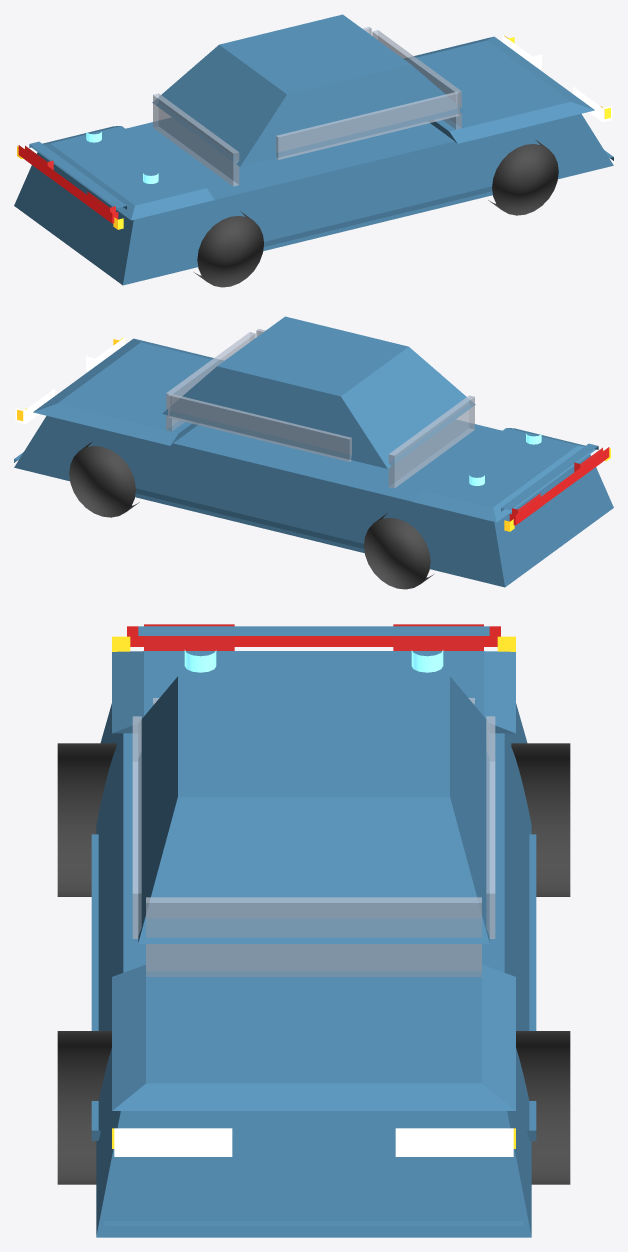
3 renders of one model, top to bottom at view 1: azimuth 30°, elevation 25°; view 2: azimuth 150°, elevation 25°; view 3: azimuth 270°, elevation 25°, orthographic. The views are drawn at different scales.
Parts seen in each view (by area): view 1: body, cabin, hood, trunklid, side_window_R, wheel_RR, wheel_FR, rear_window, windshield, side_skirt_R, brakelight_bar, spoiler (+1 smaller); view 2: body, cabin, hood, trunklid, side_window_L, wheel_RL, wheel_FL, rear_window, windshield, side_skirt_L, brakelight_bar, spoiler (+1 smaller); view 3: cabin, body, hood, windshield, trunklid, wheel_FL, wheel_FR, wheel_RL, wheel_RR, spoiler, headlight_L, headlight_R (+8 smaller).
Boxes of the visible parts, box(x1,y1,x2,y2) form: body: box(14, 113, 613, 285); cabin: box(152, 14, 465, 166); hood: box(404, 36, 594, 143); trunklid: box(32, 126, 214, 220); side_window_R: box(276, 91, 459, 159); wheel_RR: box(194, 211, 263, 287); wheel_FR: box(488, 139, 558, 215); rear_window: box(153, 93, 239, 186); windshield: box(372, 30, 461, 129); side_skirt_R: box(263, 186, 492, 246); brakelight_bar: box(18, 145, 118, 223); spoiler: box(29, 141, 126, 209); body: box(14, 415, 613, 587); cabin: box(162, 316, 475, 468); hood: box(33, 338, 223, 445); trunklid: box(413, 428, 595, 522); side_window_L: box(168, 393, 351, 461); wheel_RL: box(364, 513, 433, 589); wheel_FL: box(69, 441, 139, 517); rear_window: box(388, 395, 474, 488); windshield: box(166, 332, 255, 431); side_skirt_L: box(135, 488, 364, 548); brakelight_bar: box(509, 447, 609, 525); spoiler: box(501, 443, 598, 511); cabin: box(138, 676, 489, 943); body: box(96, 703, 531, 1237); hood: box(112, 964, 515, 1110); windshield: box(146, 897, 481, 976); trunklid: box(112, 651, 515, 733); wheel_FL: box(516, 1031, 570, 1184); wheel_FR: box(57, 1031, 111, 1184); wheel_RL: box(511, 743, 570, 896); wheel_RR: box(57, 743, 116, 896); spoiler: box(138, 626, 489, 635); headlight_L: box(395, 1128, 513, 1156); headlight_R: box(114, 1128, 232, 1156).
Size of the model in its own units: 5.06 by 1.45 by 2.26.
